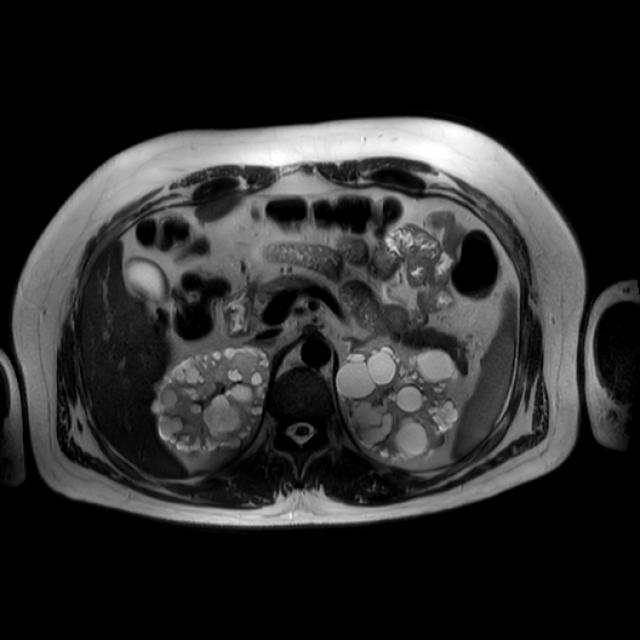sag: (154, 348, 272, 454)
sol: (338, 343, 461, 459)
